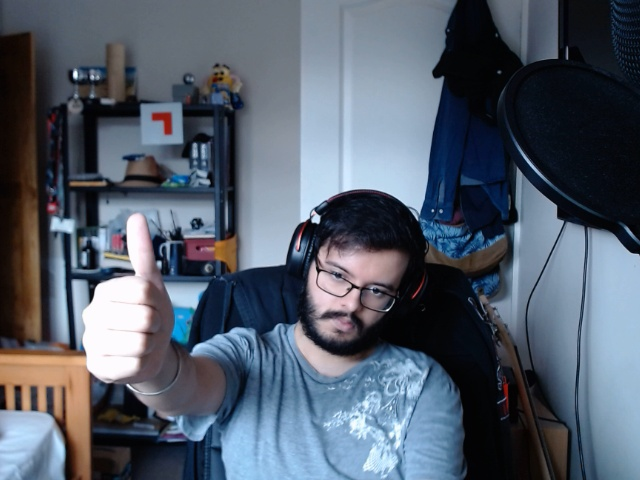Thumbs up: (76, 203, 187, 401)
